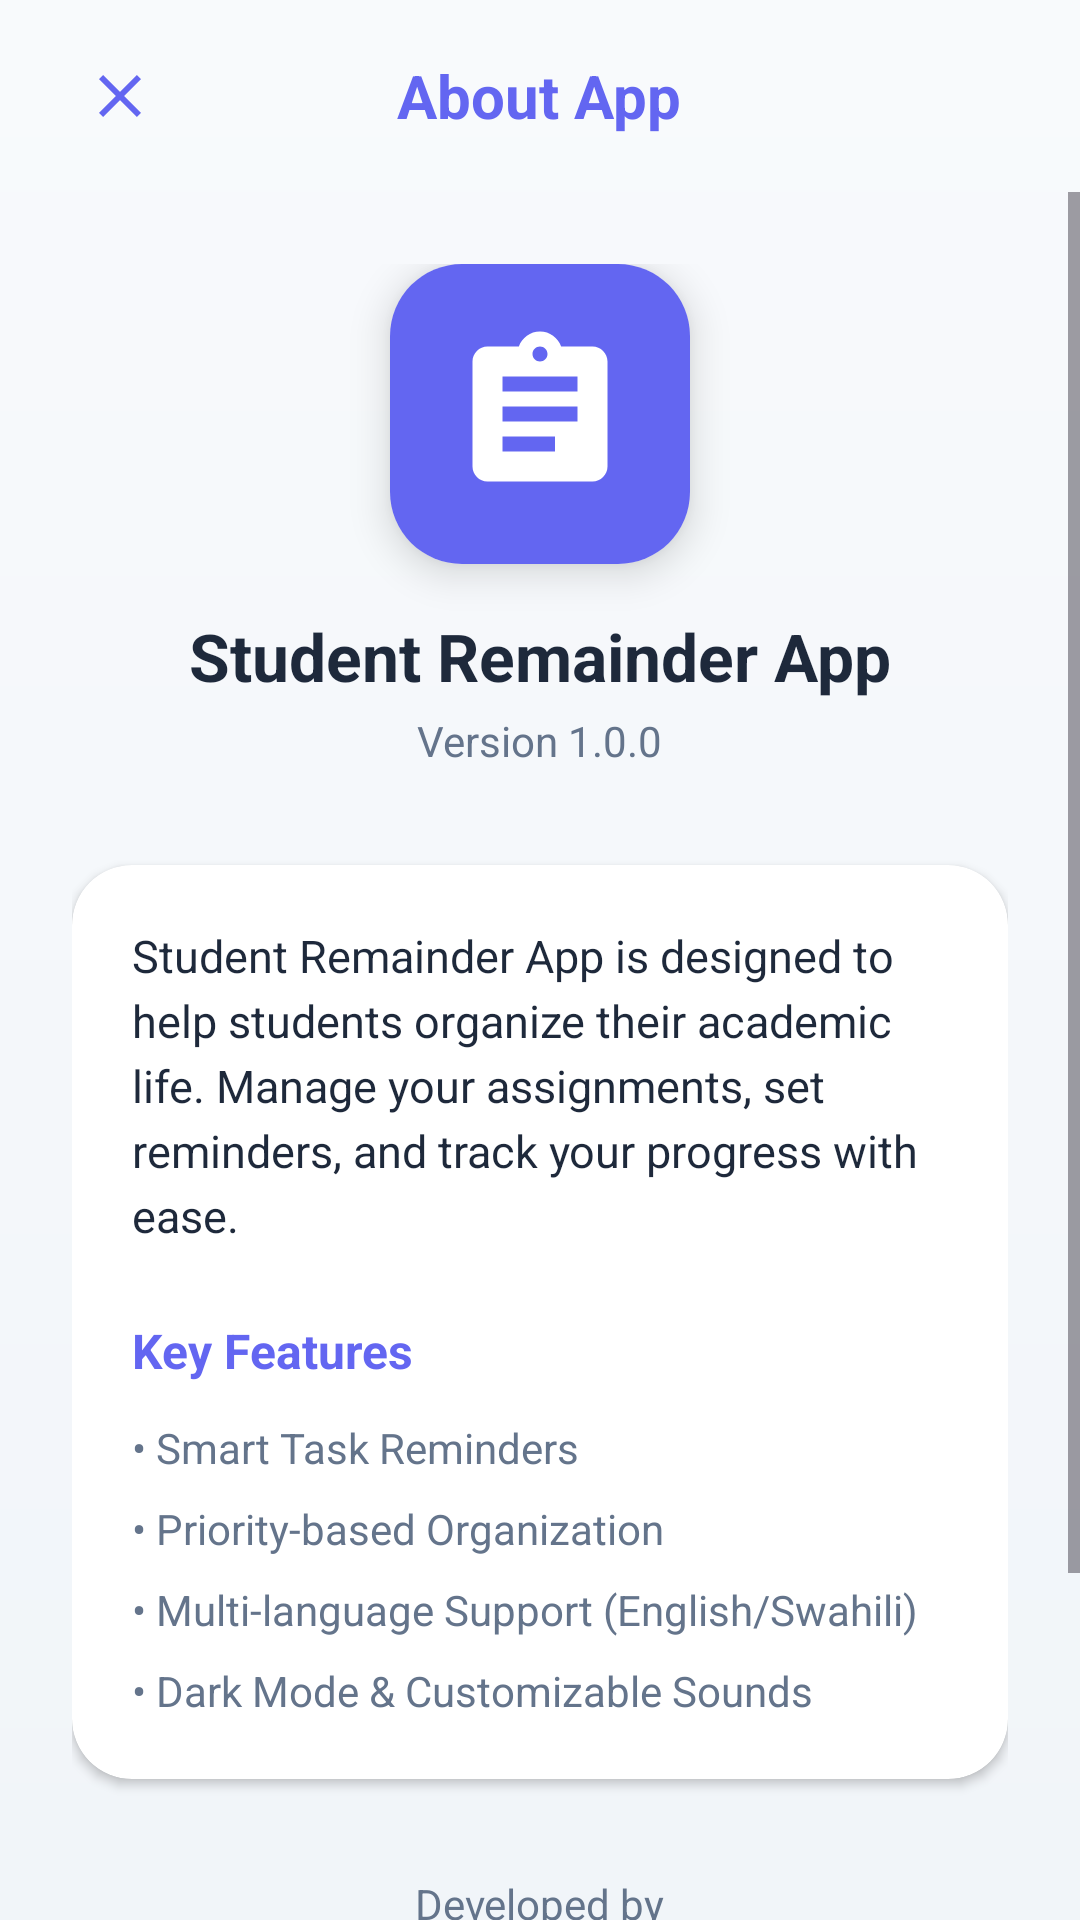

Icon bounding boxes for this 1080×1920 phone screenshot, format region(x1, y1, x2, y2):
close: region(99, 75, 141, 117)
tasks: region(390, 264, 690, 564)
